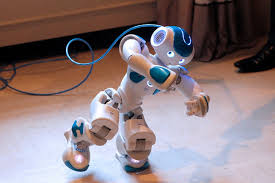nao: (53, 21, 217, 183)
